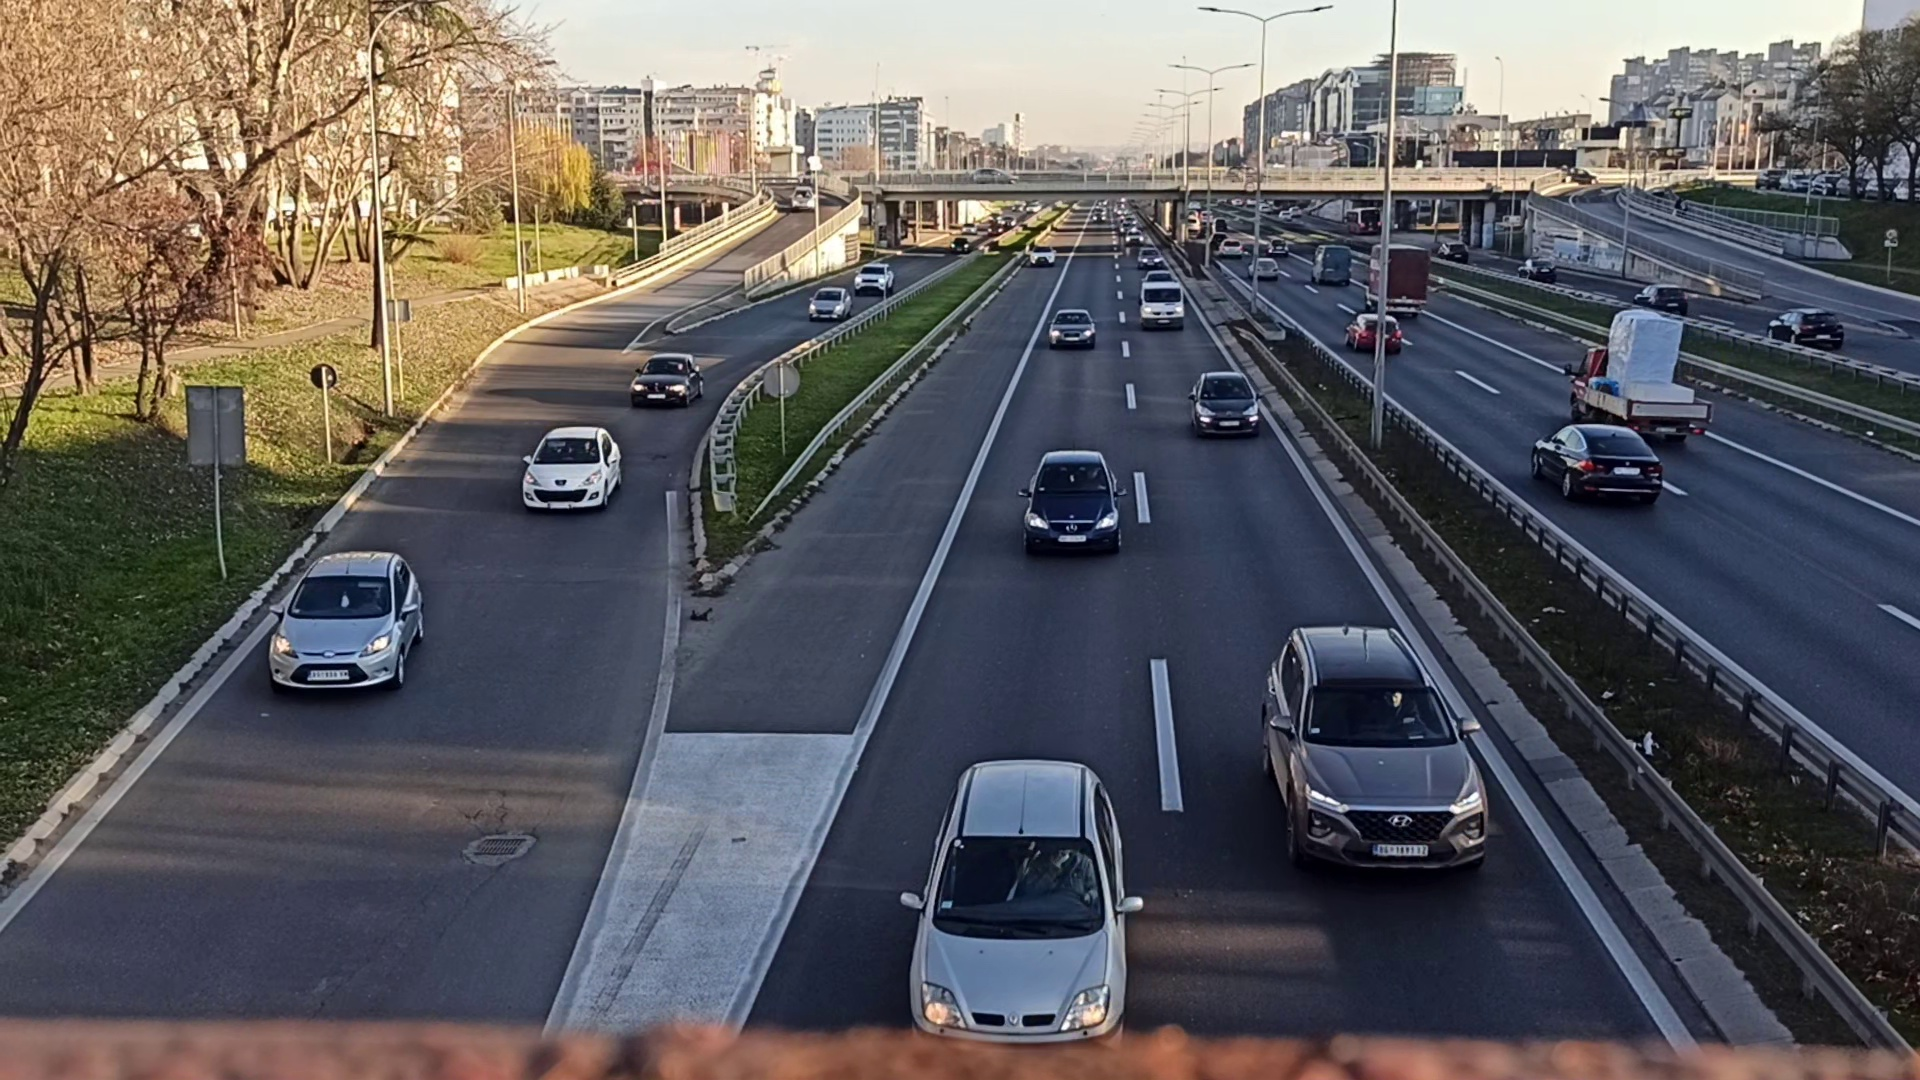car: (905, 744, 1139, 1048), (1241, 616, 1497, 880), (270, 553, 427, 705), (1017, 448, 1131, 556), (1530, 425, 1660, 509), (514, 414, 620, 514), (1189, 369, 1261, 436), (633, 352, 703, 415), (1342, 316, 1402, 353), (1048, 307, 1095, 345), (808, 285, 851, 320), (856, 258, 895, 293)
van: (1139, 278, 1185, 328)
